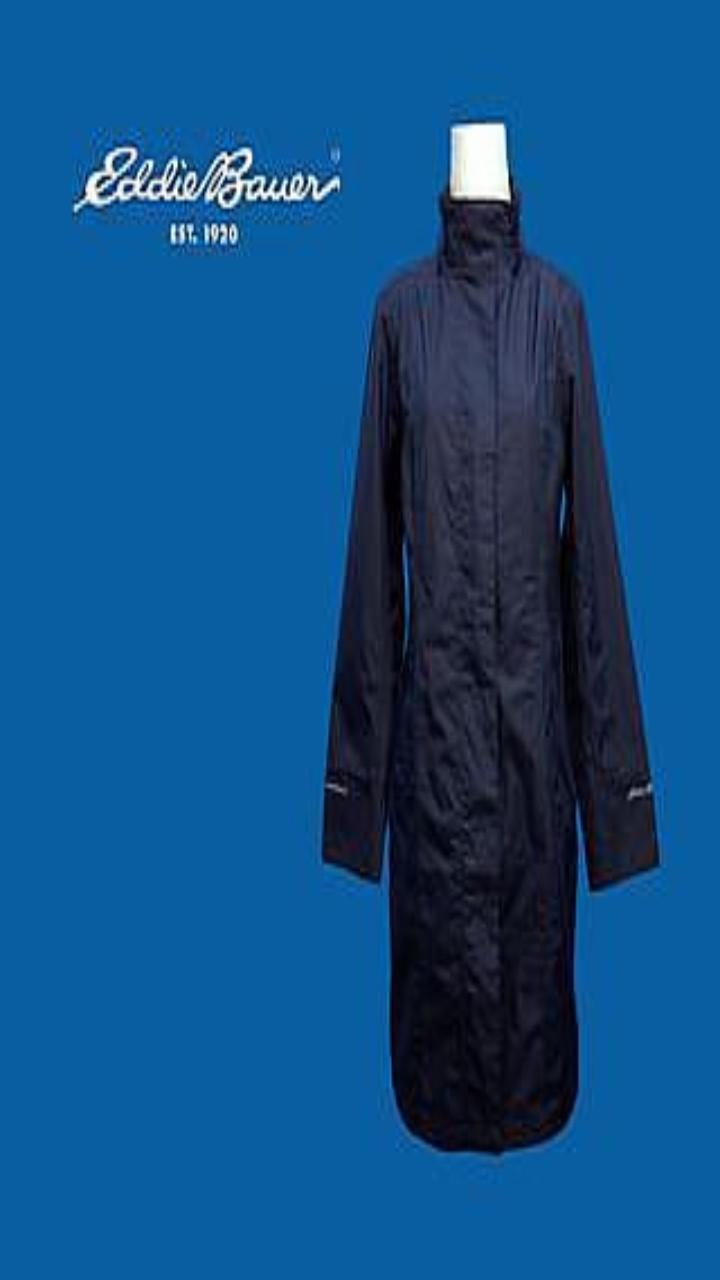Coat: (322, 177, 658, 1152)
